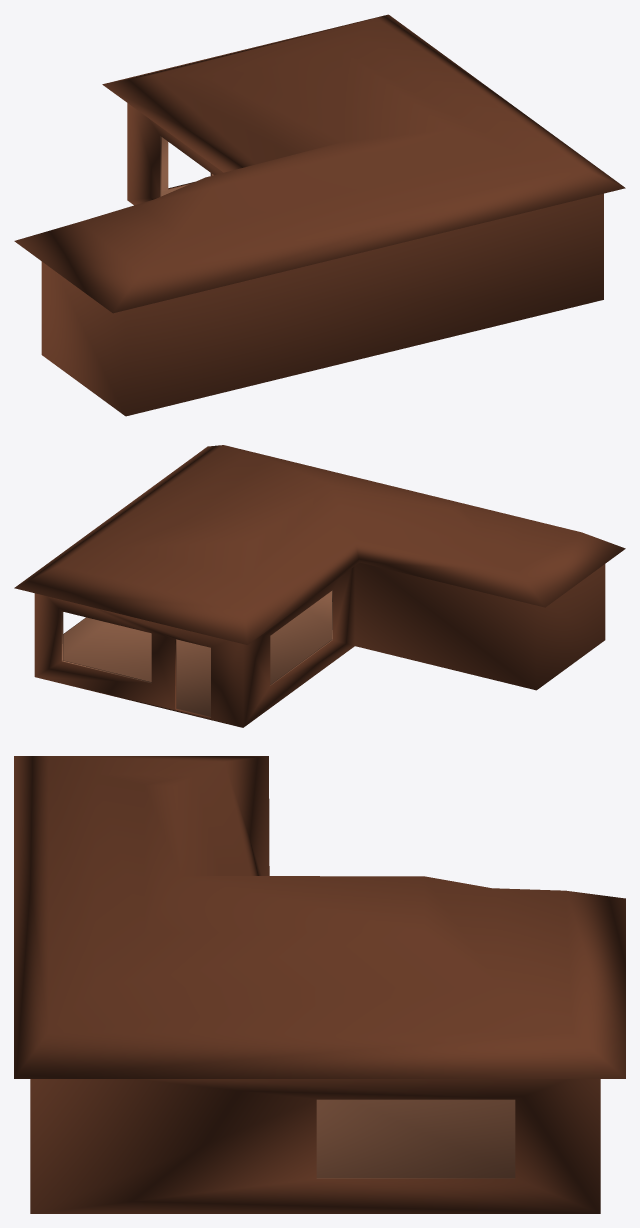
The model's file is house4.fbx.
3 renders of one model, top to bottom at view 1: azimuth 30°, elevation 25°; view 2: azimuth 150°, elevation 25°; view 3: azimuth 270°, elevation 25°, orthographic. The views are drawn at different scales.
Visible parts, largest first — view 1: Cube; view 2: Cube; view 3: Cube.
Part boxes in pixels (<box>): Cube: <box>14,14,625,416</box>; Cube: <box>14,445,625,727</box>; Cube: <box>14,756,625,1213</box>.
Size of the model in its own units: 2901 by 889 by 2324.
